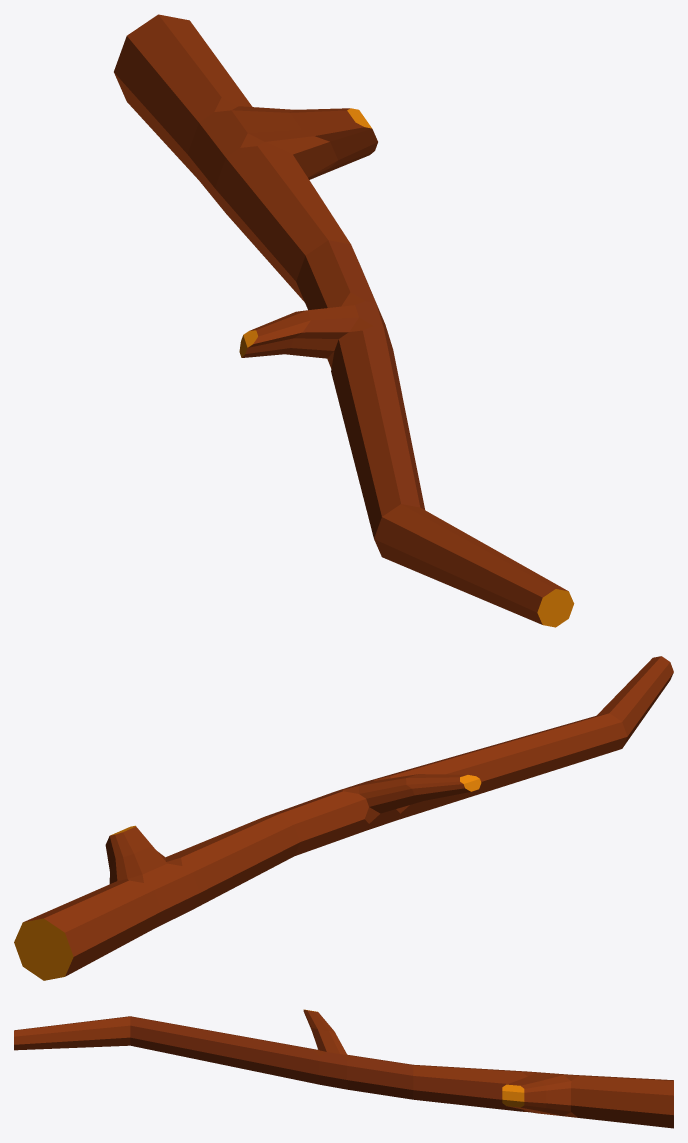
The model's file is Stick_5.fbx.
3 views of the same model, one above another, from view 1: azimuth 30°, elevation 25°; view 2: azimuth 150°, elevation 25°; view 3: azimuth 270°, elevation 25° (orthographic). The views are drawn at different scales.
Parts seen in each view (by area): view 1: Circle.025; view 2: Circle.025; view 3: Circle.025.
Part boxes in pixels (x1,y1,x2,y2): Circle.025: (114,14,574,627); Circle.025: (14,656,673,980); Circle.025: (14,1009,673,1128).
Size of the model in its own units: 14.72 by 3.82 by 43.67.
